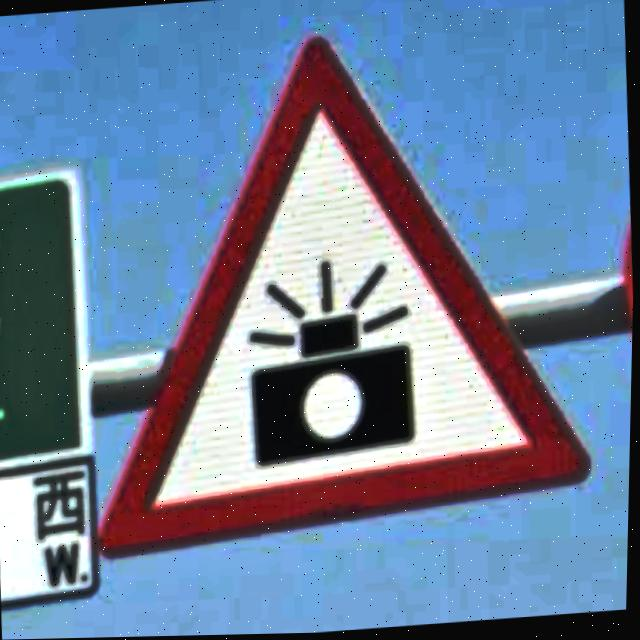speedcamera: (101, 40, 594, 560)
